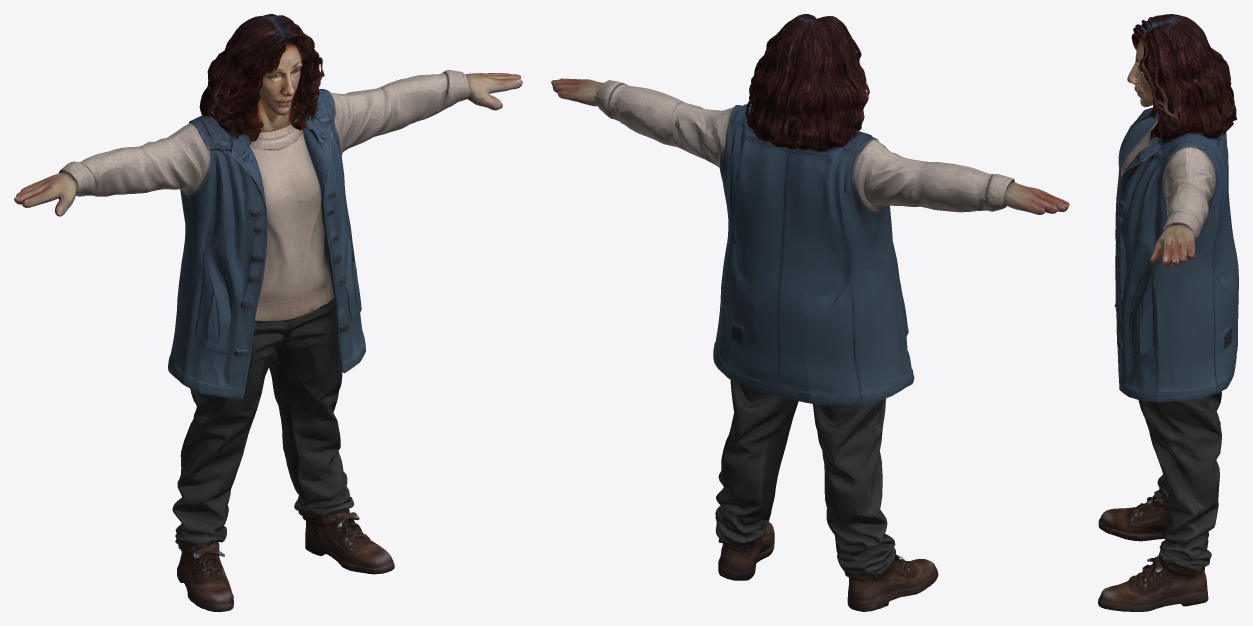
3 renders of one model, left to right at view 1: azimuth 30°, elevation 25°; view 2: azimuth 150°, elevation 25°; view 3: azimuth 270°, elevation 25°, orthographic. The views are drawn at different scales.
Visible parts, largest first — view 1: world; view 2: world; view 3: world.
Part boxes in pixels (left/top/right/bottom): world: left=14, top=14, right=522, bottom=611; world: left=551, top=14, right=1069, bottom=611; world: left=1098, top=14, right=1238, bottom=611.
Bounding box in the file's own units: 0.9572 × 1 × 0.2316.
1 material, 1 textured.
